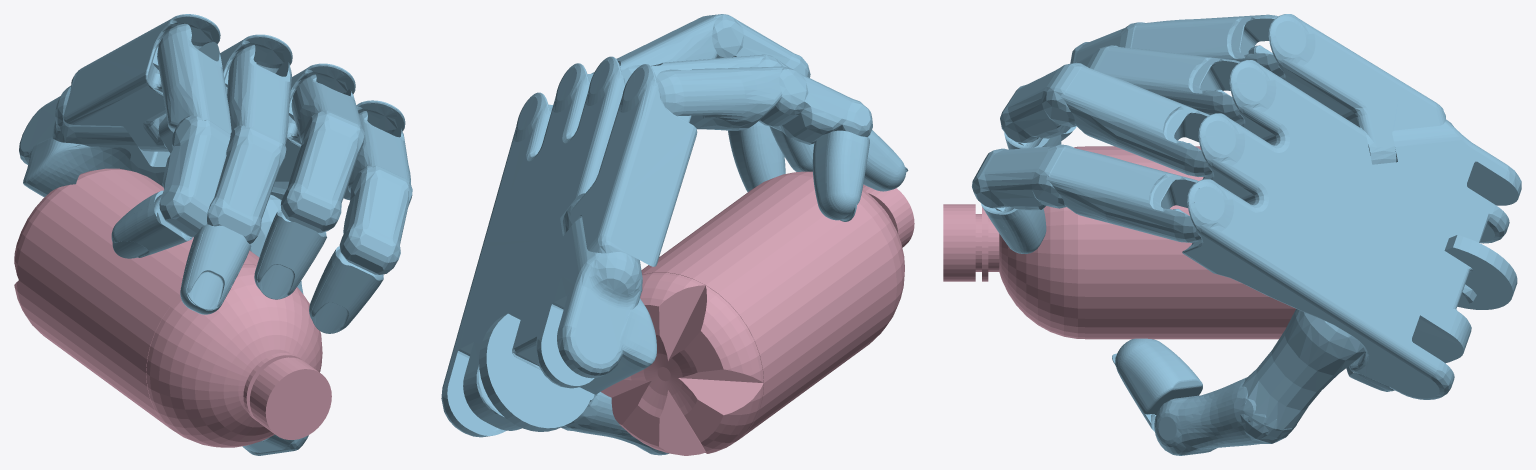
3 views of the same model, side by side, from view 1: azimuth 30°, elevation 25°; view 2: azimuth 150°, elevation 25°; view 3: azimuth 270°, elevation 25° (orthographic).
Visible parts, largest first — view 1: world; view 2: world; view 3: world.
Part boxes in pixels (<box>): world: <box>14,14,412,455</box>; world: <box>441,14,914,455</box>; world: <box>943,14,1521,455</box>.
Size of the model in its own units: 0.1139 by 0.145 by 0.1803.
